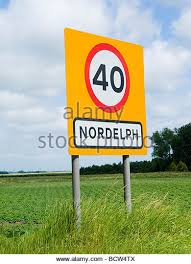Speed_limit_40km: (83, 42, 131, 112)
